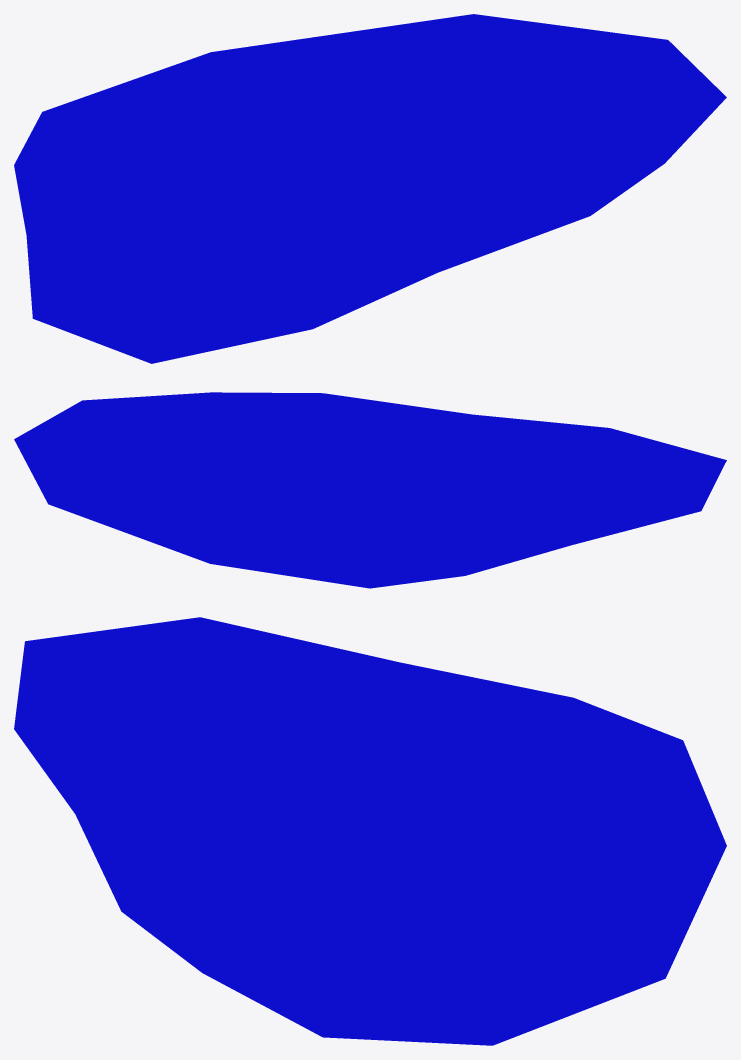
The model's file is water.fbx.
3 renders of one model, top to bottom at view 1: azimuth 30°, elevation 25°; view 2: azimuth 150°, elevation 25°; view 3: azimuth 270°, elevation 25°, orthographic. The views are drawn at different scales.
Parts seen in each view (by area): view 1: Plane; view 2: Plane; view 3: Plane.
Boxes of the visible parts, box(x1,y1,x2,y2) form: Plane: box(14, 14, 726, 363); Plane: box(14, 392, 726, 588); Plane: box(14, 617, 726, 1045).
Size of the model in its own units: 613826 by 0.0703 by 431534.
